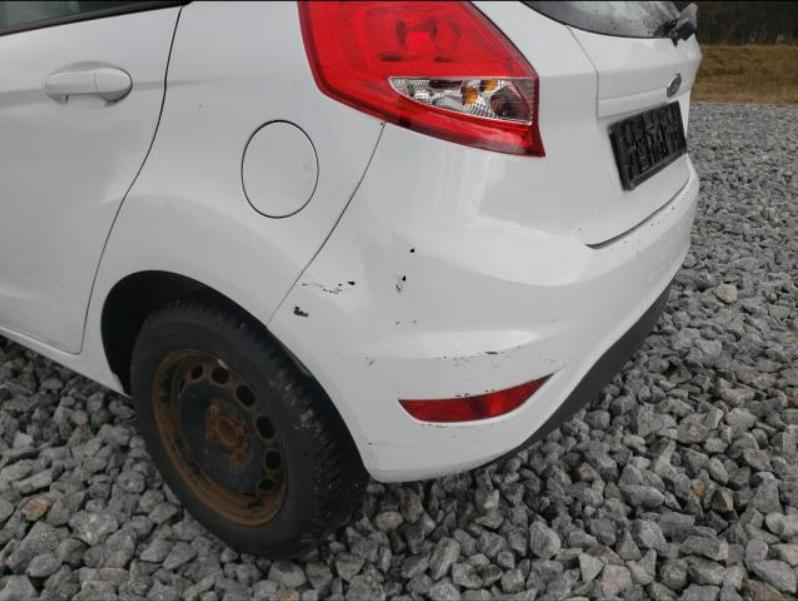Back-bumper: (267, 122, 700, 482)
Back-door: (1, 1, 182, 353)
Back-wheel: (132, 301, 368, 557)
Back-window: (1, 0, 152, 27)
Back-windshield: (526, 0, 693, 38)
License-plate: (609, 101, 688, 191)
Quarter-panel: (83, 0, 385, 393)
Rocker-panel: (0, 327, 93, 378)
Tail-light: (297, 0, 546, 158)
Trunk: (471, 1, 701, 245)
